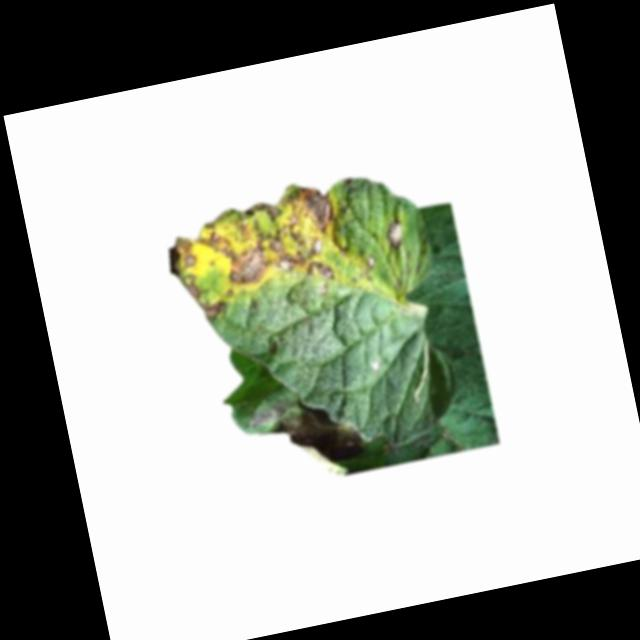Early_blight: (159, 174, 381, 330), (245, 388, 346, 485), (383, 217, 409, 250)
